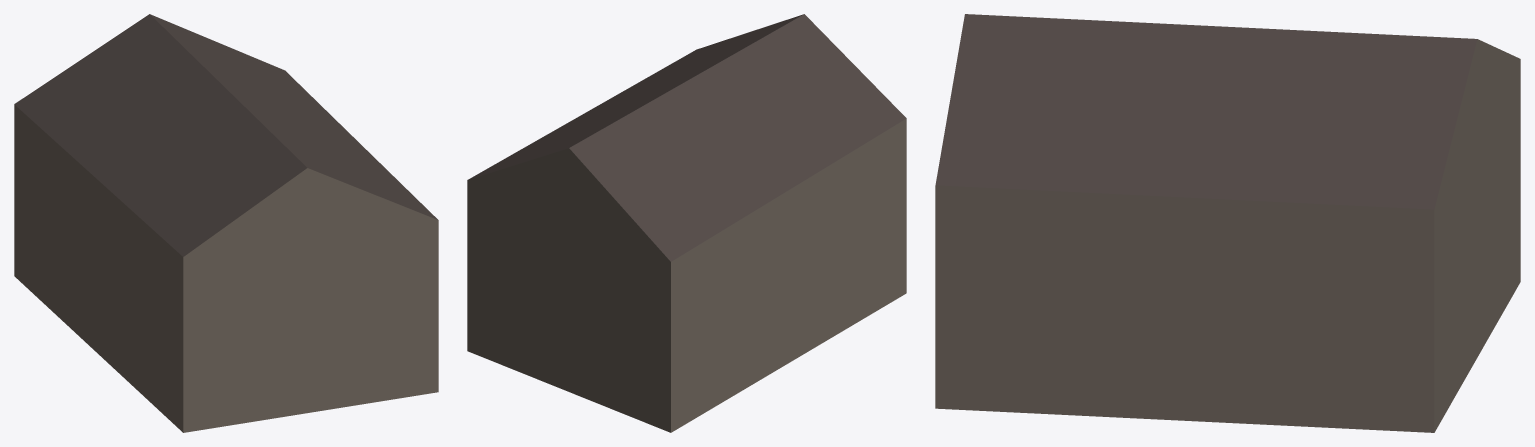
3 views of the same model, side by side, from view 1: azimuth 30°, elevation 25°; view 2: azimuth 150°, elevation 25°; view 3: azimuth 270°, elevation 25° (orthographic). The views are drawn at different scales.
Parts seen in each view (by area): view 1: HP-w1515071127; view 2: HP-w1515071127; view 3: HP-w1515071127.
Boxes of the visible parts, x1,y1,x2,y2 form: HP-w1515071127: [14, 14, 438, 432]; HP-w1515071127: [467, 14, 906, 432]; HP-w1515071127: [935, 14, 1520, 432].
Size of the model in its own units: 9.93 by 8.56 by 14.25.
